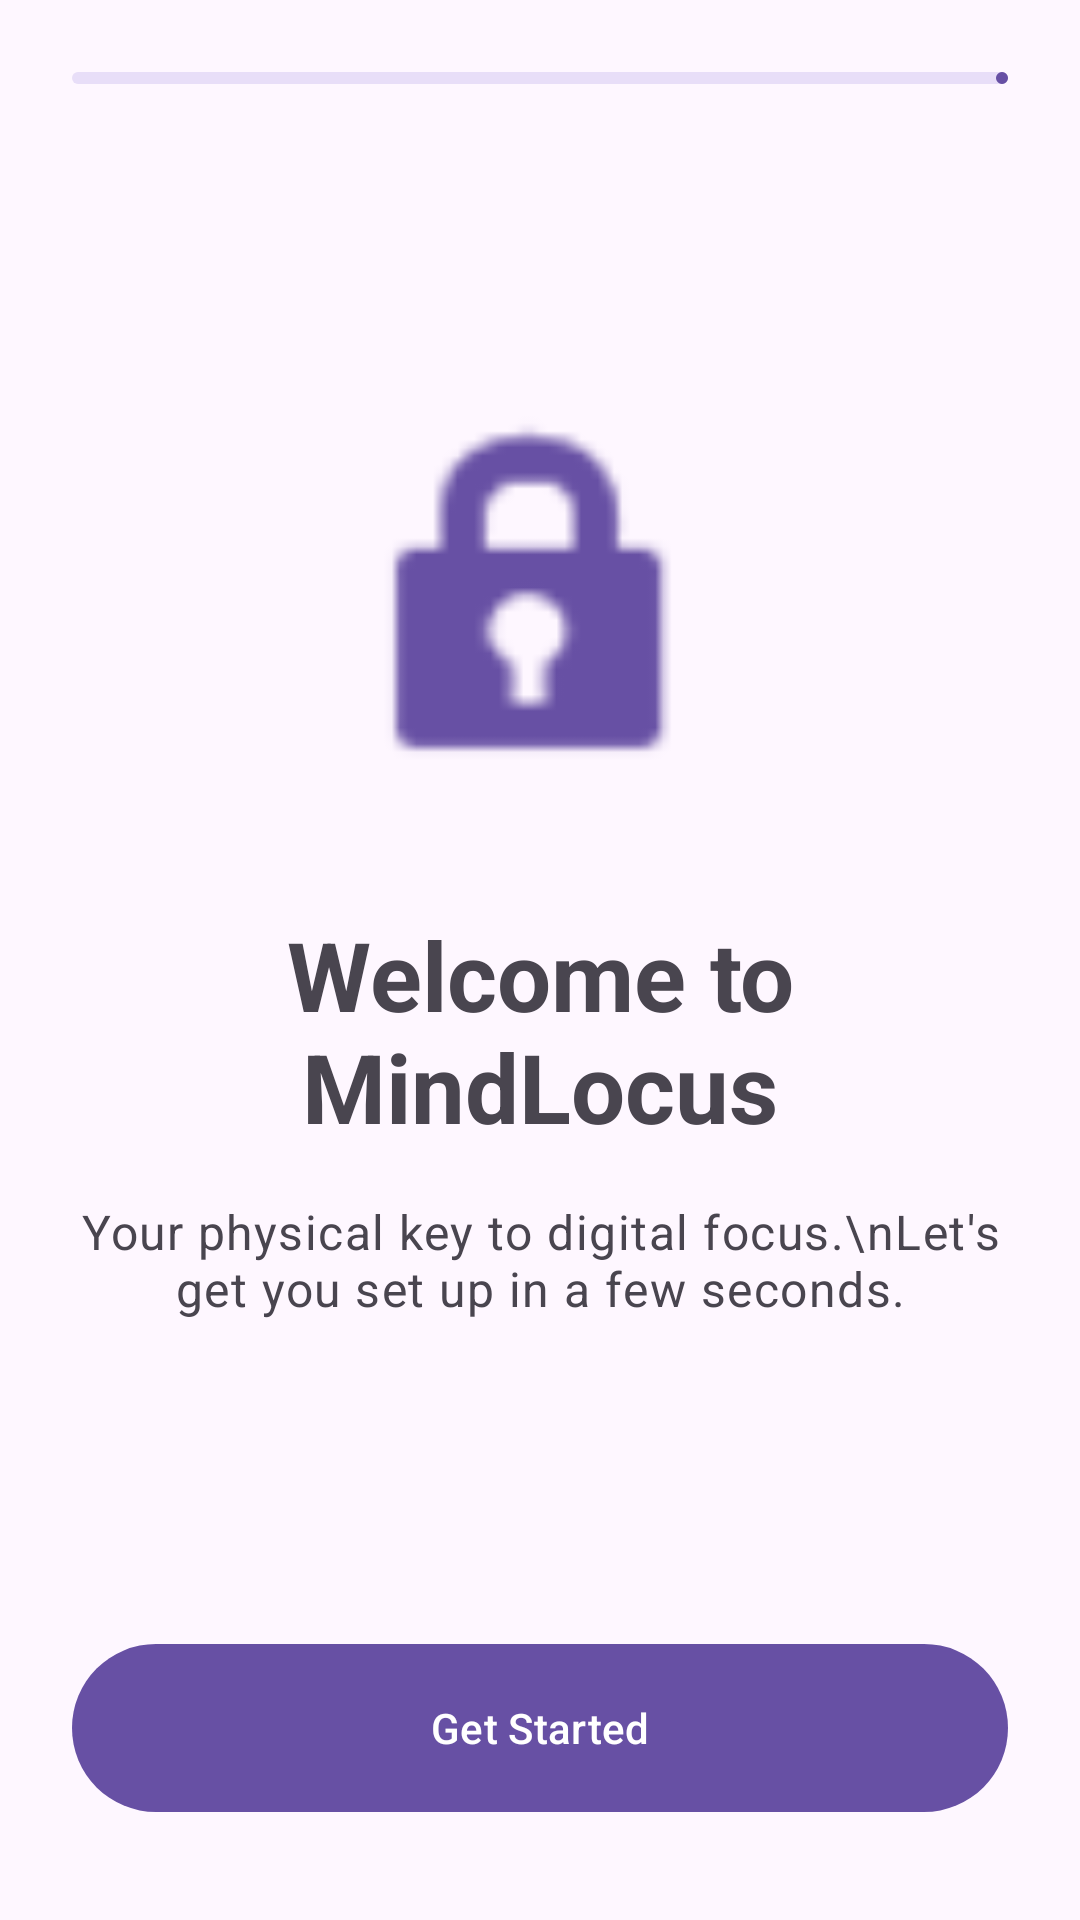

Locate icon controls on the screen. Image size 1080*1920, boxes as (left=x1, top=y1, right=x2, bottom=y2).
lock idle: (left=393, top=431, right=667, bottom=751)
